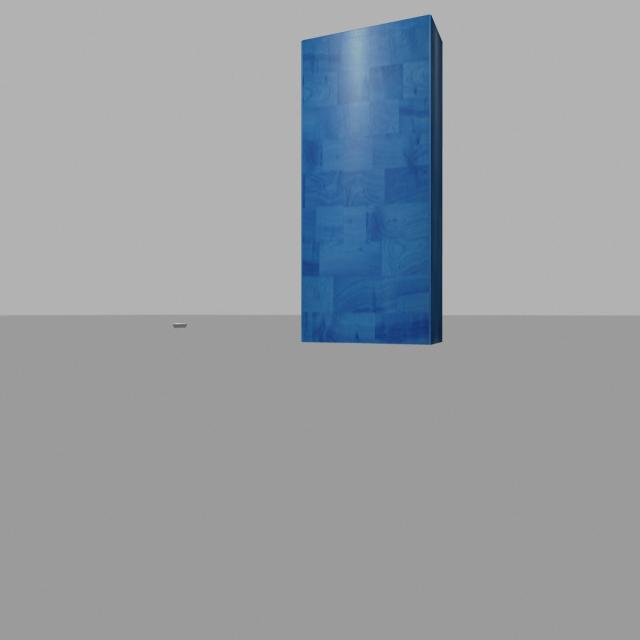bowl: (162, 315, 201, 337)
shelf: (266, 1, 503, 381)
